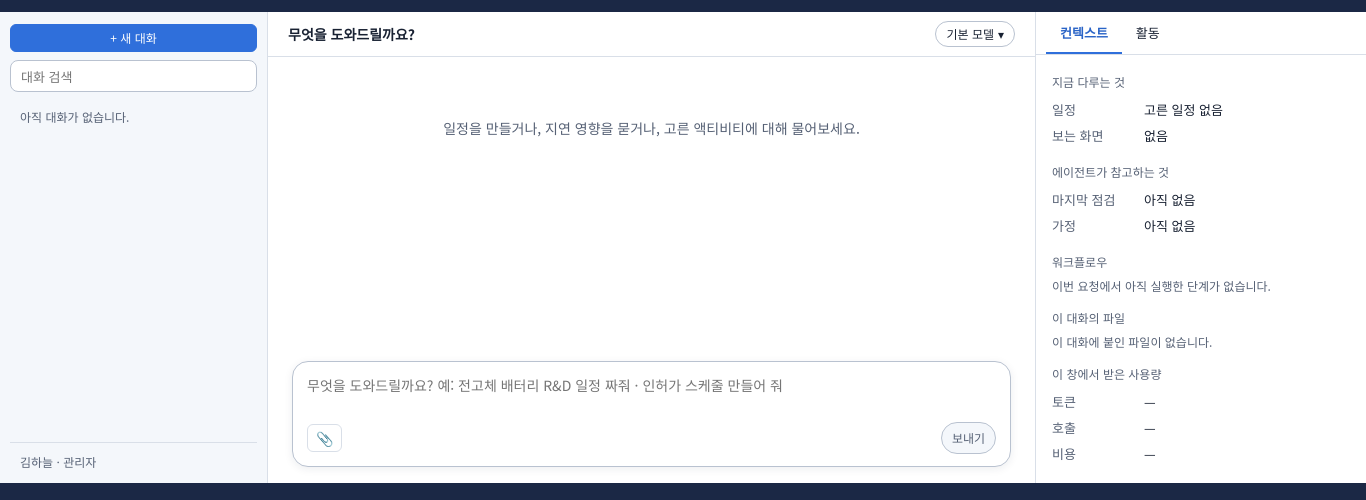
it: R2 · every card kind the backend sends › generation stages collapse into one live card
In the text box named "에이전트에게 요청": {"x": 652, "y": 398} [307, 374, 996, 422], type "공정표 만들어 줘"
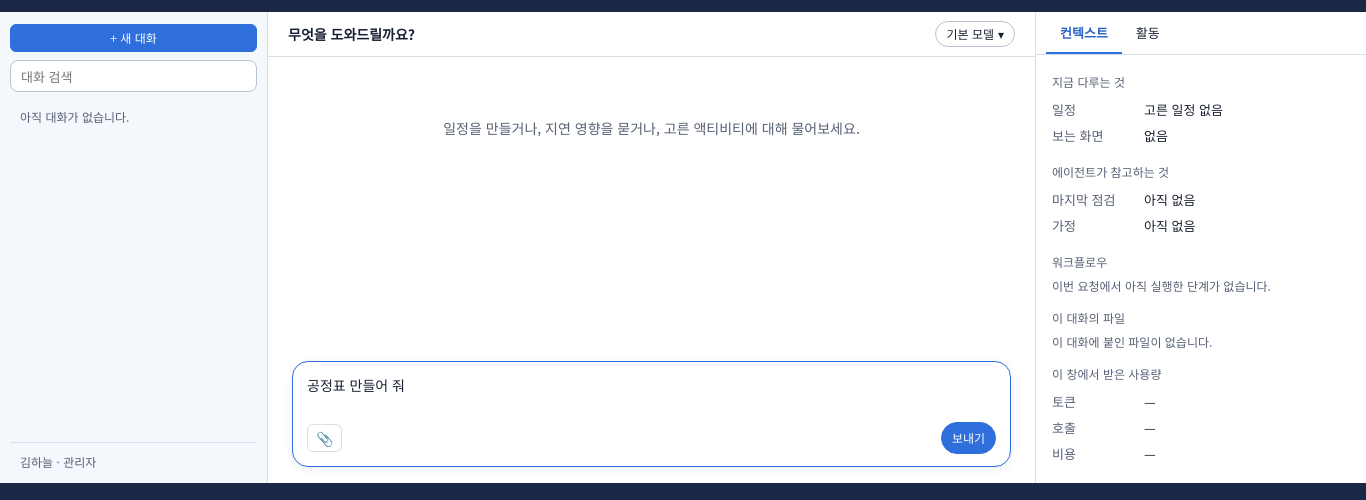
Click the button "보내기": {"x": 968, "y": 438} [941, 422, 996, 454]
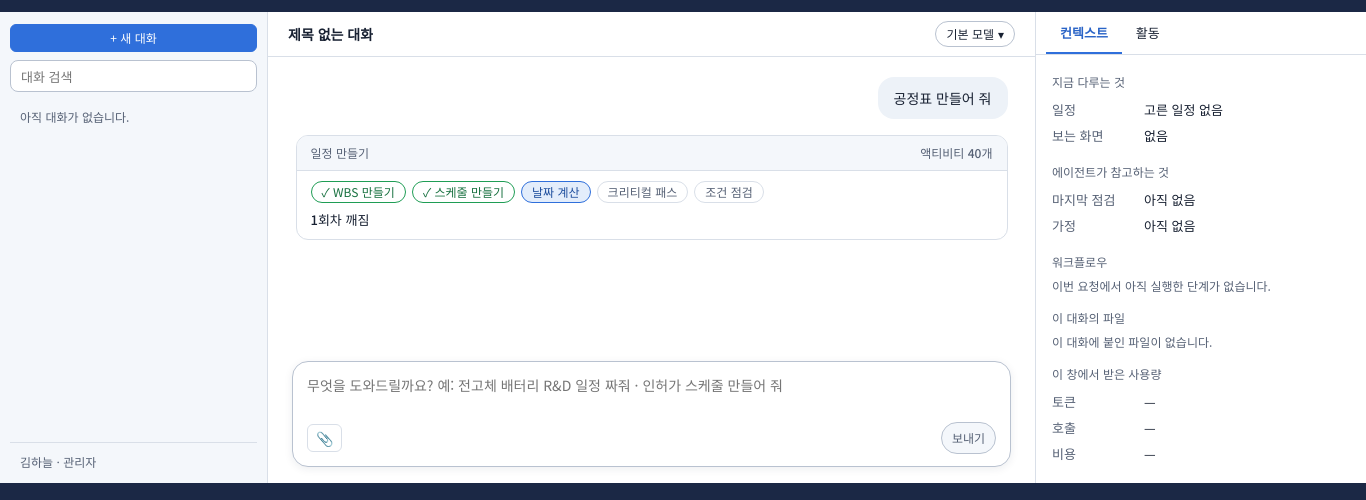
Expected: the number of elements "일정 만들기" is 1, [296, 135, 1008, 240]
Expected: the text "1회차 깨짐" is shown, [310, 210, 369, 229]
